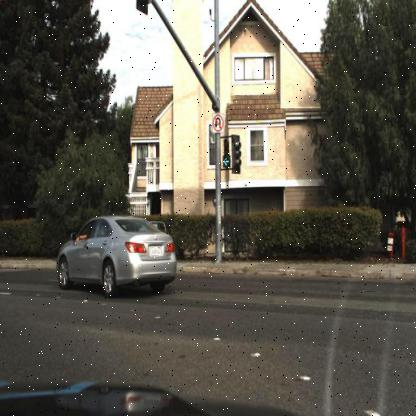car: (52, 214, 182, 298)
trafficLight-GreenLeft: (222, 136, 232, 169), (221, 150, 232, 173)
